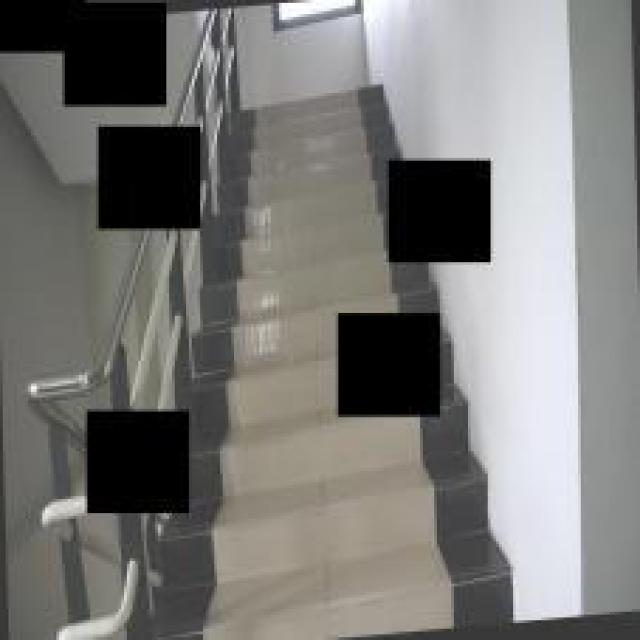upstair: (213, 108, 371, 311)
